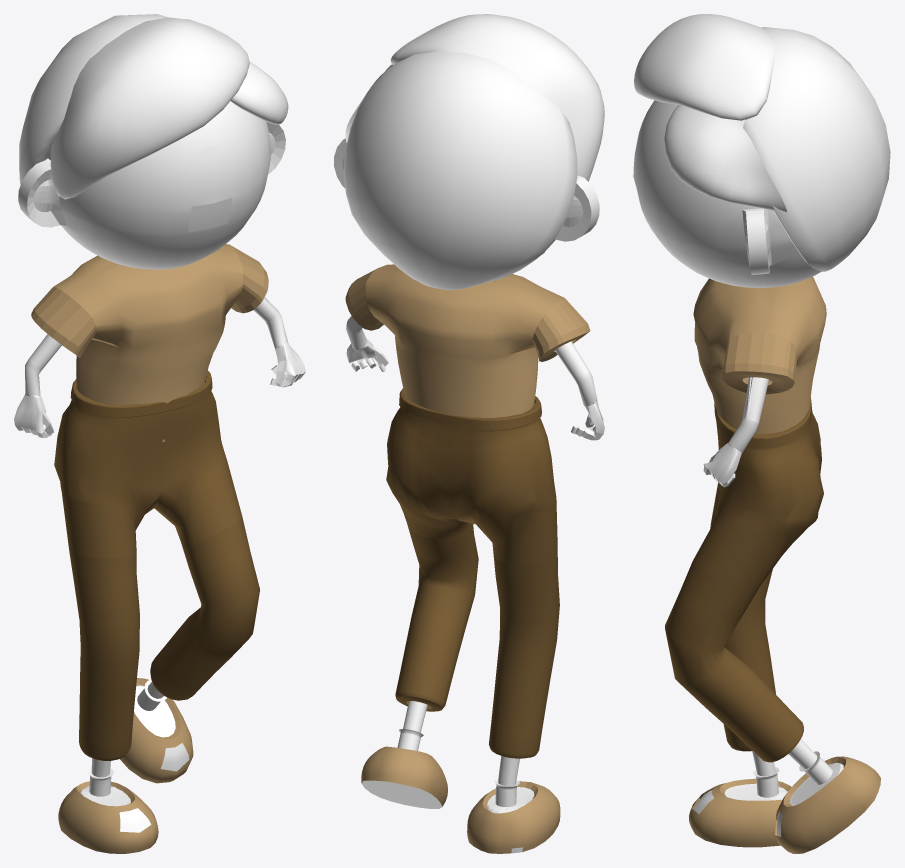
Rendered from StandingMan.fbx.
3 renders of one model, left to right at view 1: azimuth 30°, elevation 25°; view 2: azimuth 150°, elevation 25°; view 3: azimuth 270°, elevation 25°, orthographic. The views are drawn at different scales.
Parts seen in each view (by area): view 1: StandingMan_LOD0; view 2: StandingMan_LOD0; view 3: StandingMan_LOD0.
Part boxes in pixels (x1=…): StandingMan_LOD0: x1=14, y1=14, x2=305, y2=853; StandingMan_LOD0: x1=334, y1=14, x2=604, y2=853; StandingMan_LOD0: x1=633, y1=14, x2=890, y2=853.
Size of what is drawn, in the model's own units: 2.72 by 7.58 by 2.13.
